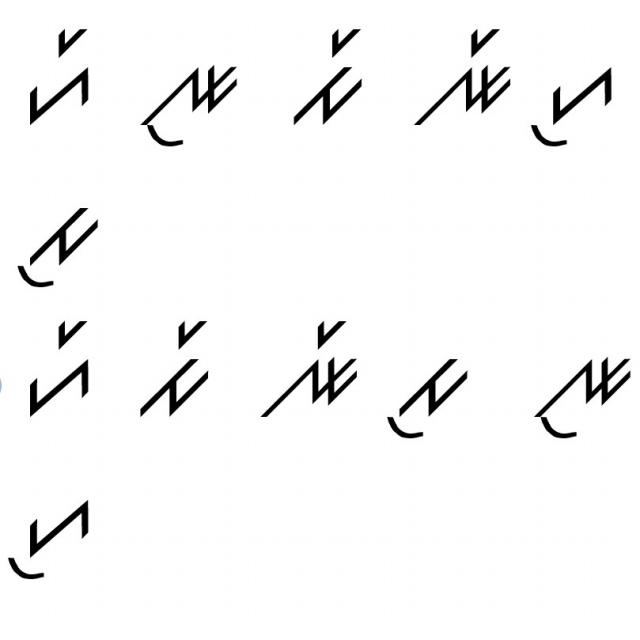har: (18, 21, 98, 125), (18, 319, 96, 417)
haw: (4, 483, 94, 586), (527, 57, 615, 149)
mbar: (281, 18, 369, 131), (132, 311, 215, 419)
mbaw: (381, 342, 470, 444), (12, 194, 101, 293)
ndar: (254, 311, 364, 423), (413, 23, 517, 128)
ndaw: (521, 340, 634, 446), (129, 56, 244, 150)
